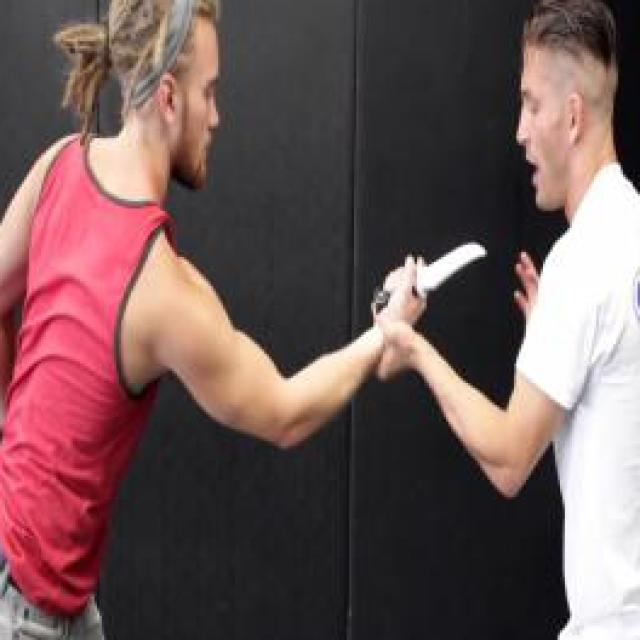knife: (366, 225, 495, 318)
